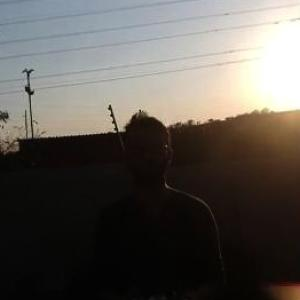follow: (85, 111, 237, 299)
